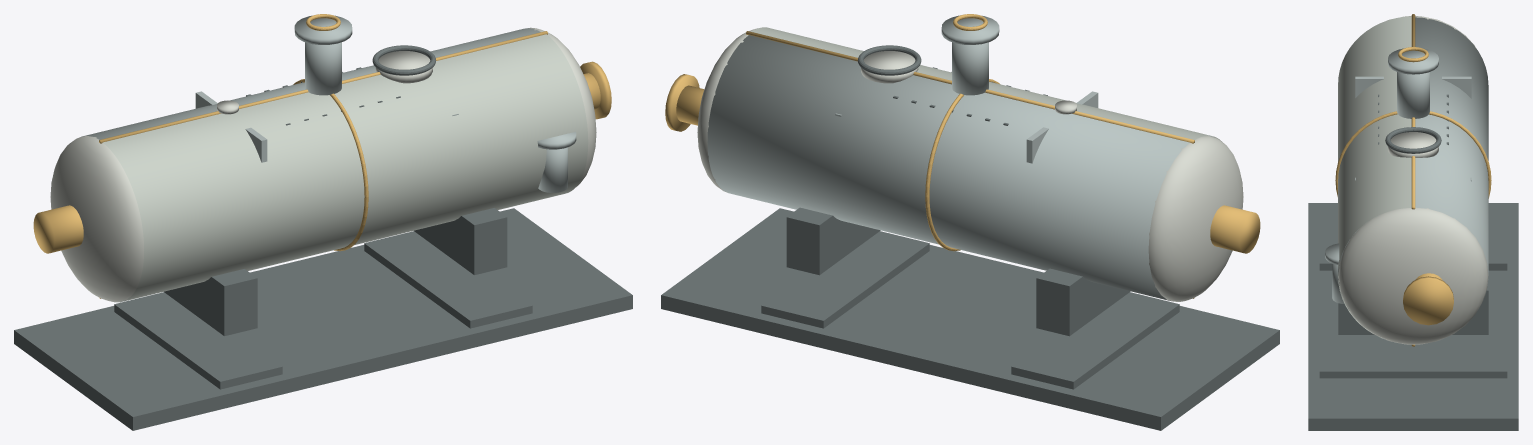
Rendered from separator.glb.
3 renders of one model, left to right at view 1: azimuth 30°, elevation 25°; view 2: azimuth 150°, elevation 25°; view 3: azimuth 270°, elevation 25°, orthographic. The views are drawn at different scales.
Parts seen in each view (by area): view 1: separator_cut_shell, separator_skid, separator_head_left, separator_base_right, separator_base_left, separator_saddle_left, separator_saddle_right, separator_shell, separator_inlet, separator_gas_outlet, separator_cut_edge_top, separator_head_right (+7 smaller); view 2: separator_shell, separator_skid, separator_head_left, separator_base_right, separator_base_left, separator_saddle_left, separator_saddle_right, separator_cut_shell, separator_inlet, separator_gas_outlet, separator_head_right, separator_cut_edge_top (+7 smaller); view 3: separator_skid, separator_head_right, separator_cut_shell, separator_shell, separator_base_right, separator_oil_outlet_flange, separator_gas_outlet, separator_saddle_right, separator_base_left, separator_gas_outlet_flange, separator_manway, separator_cutaway_rim (+6 smaller).
Part boxes in pixels (left/top/right/bottom): separator_cut_shell: left=102, top=34, right=588, bottom=302; separator_skid: left=14, top=208, right=632, bottom=430; separator_head_left: left=50, top=135, right=143, bottom=301; separator_base_right: left=364, top=231, right=532, bottom=328; separator_base_left: left=114, top=292, right=282, bottom=389; separator_saddle_left: left=164, top=269, right=257, bottom=336; separator_saddle_right: left=414, top=208, right=507, bottom=275; separator_shell: left=81, top=28, right=540, bottom=301; separator_inlet: left=33, top=205, right=83, bottom=253; separator_gas_outlet: left=305, top=42, right=341, bottom=95; separator_cut_edge_top: left=99, top=31, right=547, bottom=143; separator_head_right: left=528, top=27, right=596, bottom=186; separator_shell: left=707, top=35, right=1212, bottom=301; separator_skid: left=661, top=208, right=1279, bottom=430; separator_head_left: left=1148, top=135, right=1243, bottom=301; separator_base_right: left=761, top=231, right=929, bottom=328; separator_base_left: left=1011, top=292, right=1179, bottom=389; separator_saddle_left: left=1036, top=268, right=1130, bottom=336; separator_saddle_right: left=786, top=207, right=880, bottom=275; separator_cut_shell: left=751, top=27, right=1221, bottom=141; separator_inlet: left=1210, top=205, right=1260, bottom=253; separator_gas_outlet: left=952, top=42, right=988, bottom=95; separator_head_right: left=697, top=28, right=757, bottom=192; separator_cut_edge_top: left=746, top=31, right=1194, bottom=143; separator_skid: left=1308, top=203, right=1518, bottom=430; separator_head_right: left=1338, top=207, right=1488, bottom=344; separator_cut_shell: left=1338, top=16, right=1411, bottom=338; separator_shell: left=1338, top=17, right=1488, bottom=310; separator_base_right: left=1319, top=344, right=1507, bottom=378; separator_oil_outlet_flange: left=1403, top=276, right=1453, bottom=325; separator_gas_outlet: left=1397, top=72, right=1429, bottom=118; separator_saddle_right: left=1338, top=276, right=1488, bottom=334; separator_base_left: left=1319, top=236, right=1507, bottom=270; separator_gas_outlet_flange: left=1388, top=48, right=1438, bottom=74; separator_manway: left=1388, top=132, right=1438, bottom=157; separator_cutaway_rim: left=1335, top=111, right=1491, bottom=198.
Bounding box in the file's own units: 7.64 × 3.98 × 2.8.
